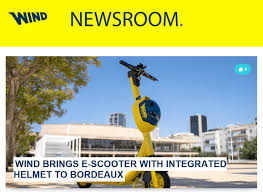kick_handler: (120, 61, 159, 82)
kick_neck: (132, 86, 160, 152)
